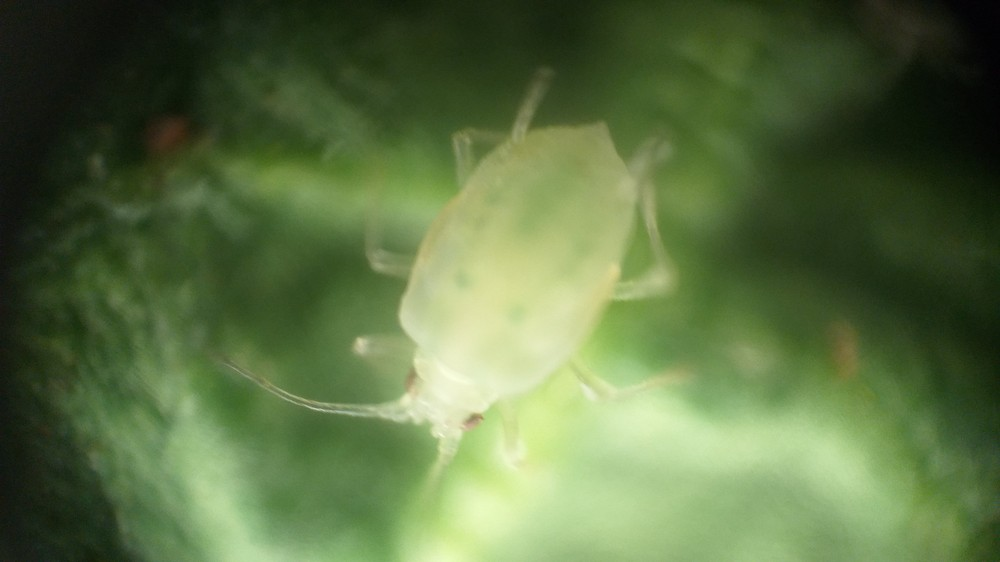Pulgon: (229, 51, 742, 554)
